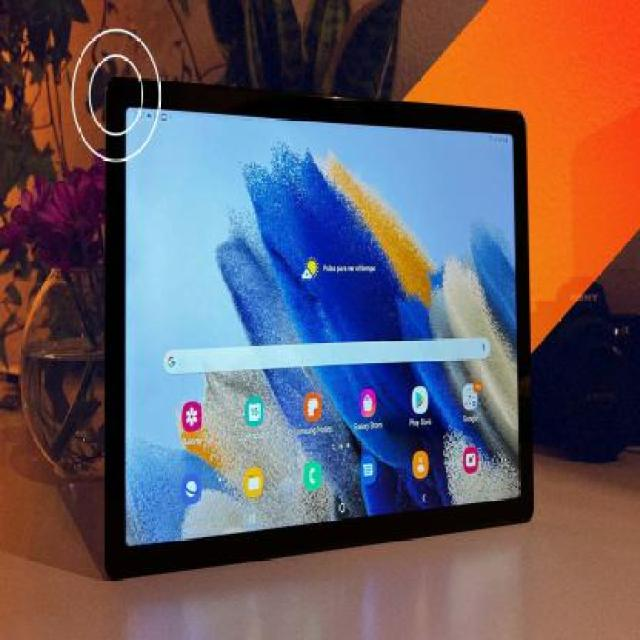tablet: (74, 31, 600, 640)
